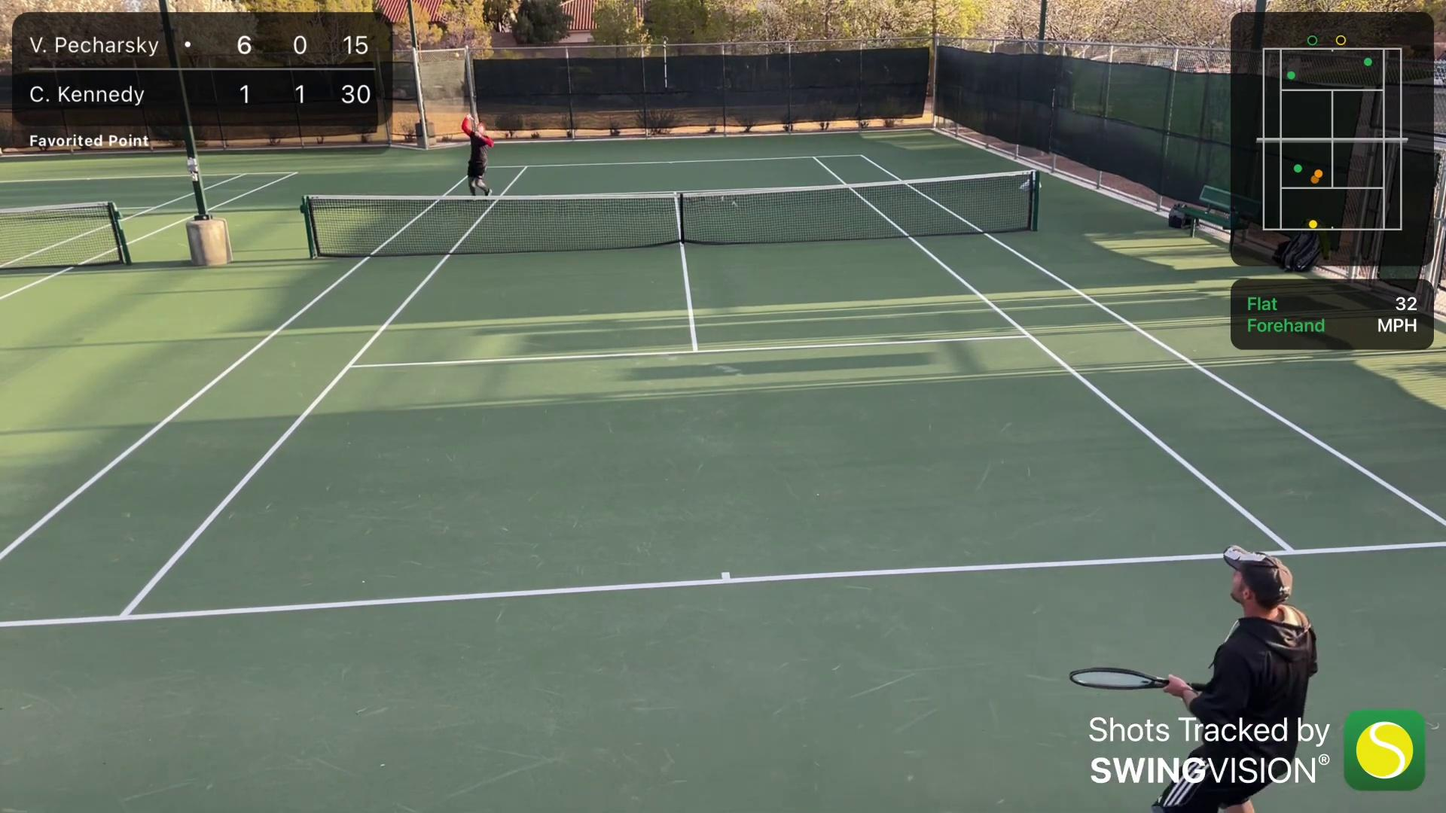ball: (453, 52, 462, 59)
